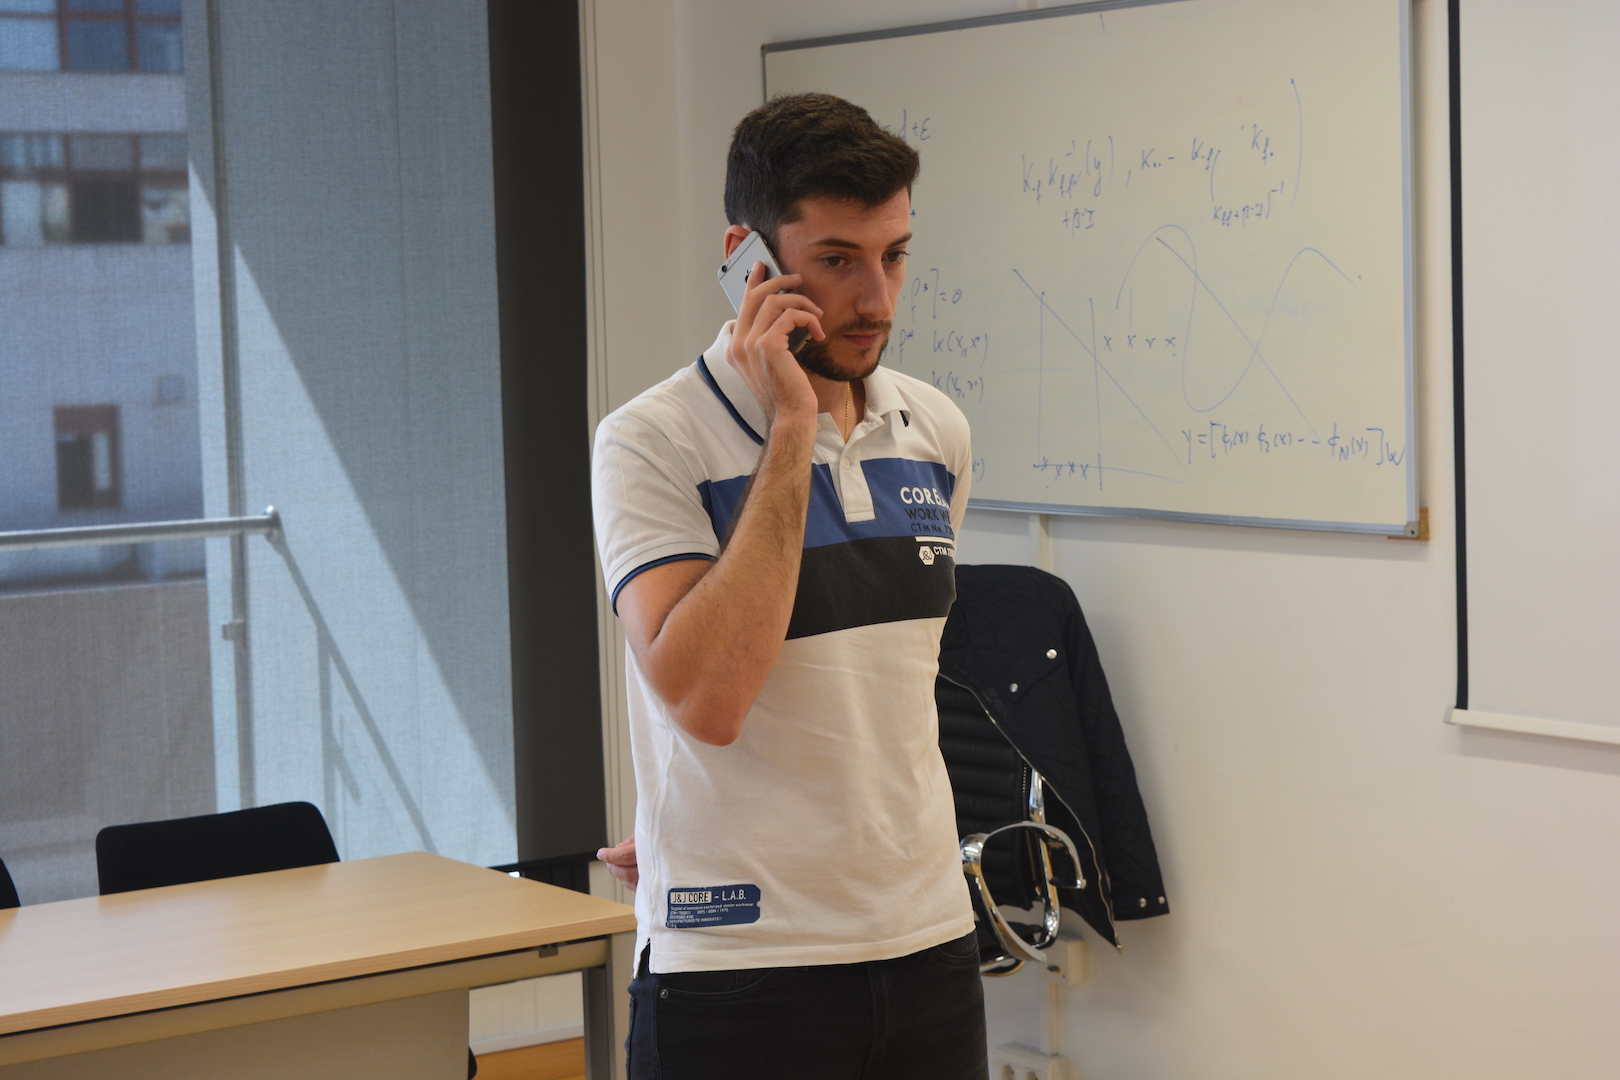smartphone: (716, 229, 815, 357)
